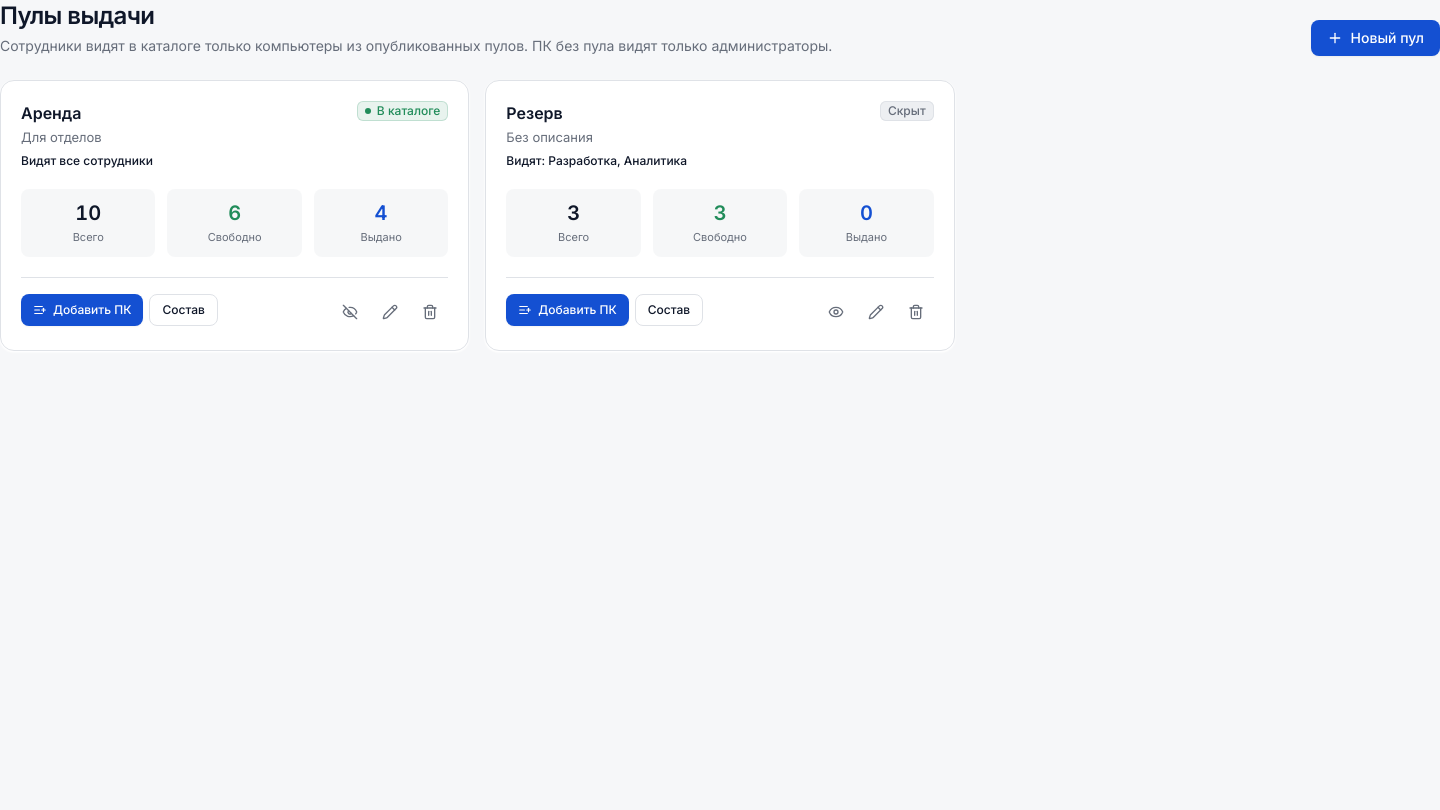
it: PoolsPage › создание и редактирование › кнопка «Сохранить» активна только при названии от 2 символов
Check: the text "Аренда" is shown, box [21,103,81,123]
Step 1. Click the button "Новый пул" → (1375, 38), box [1311,20,1439,56]
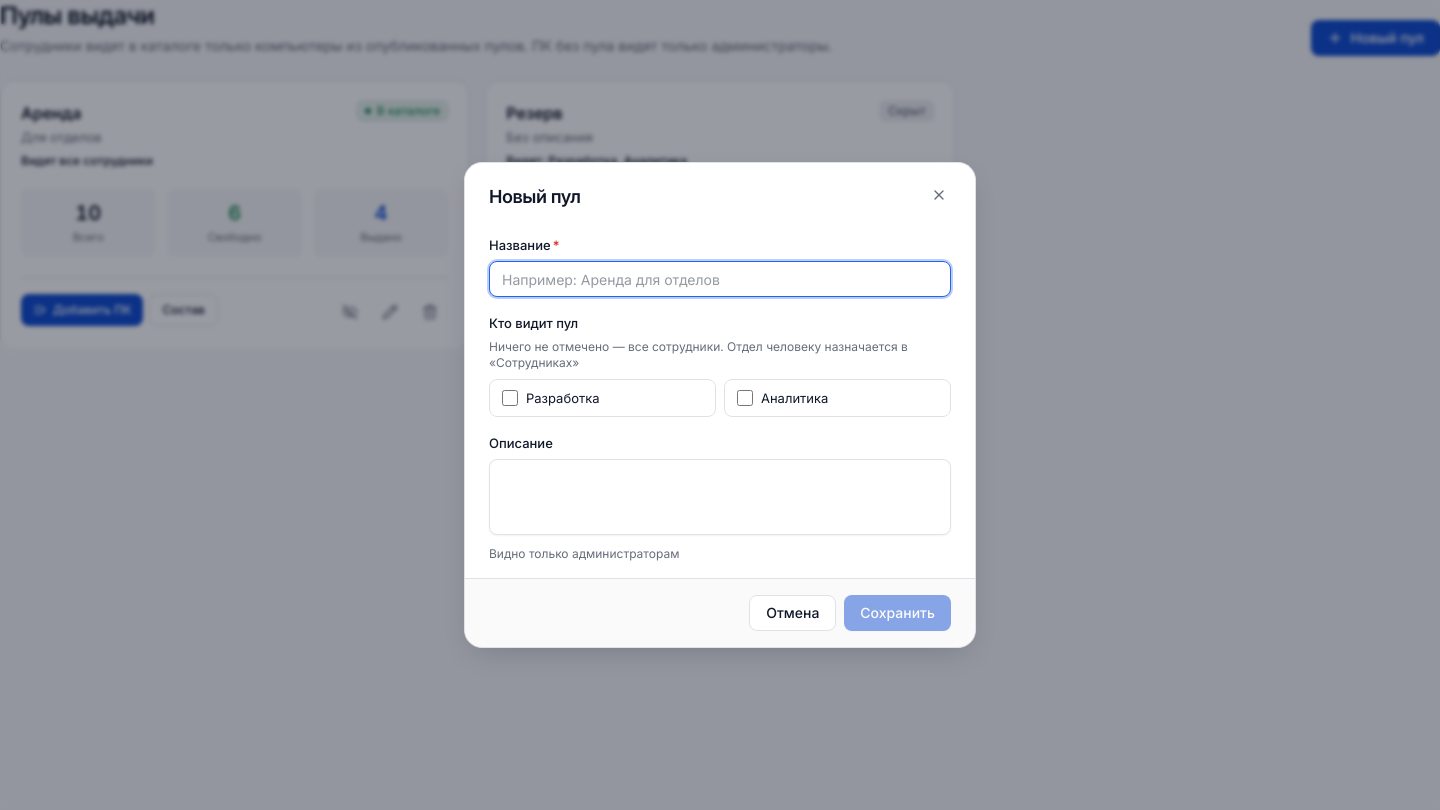
Check: the button "Сохранить" is disabled, box [844,595,951,631]
Step 2. Type " a " into the field labelled "Название*" → (720, 279), box [489,261,951,297]
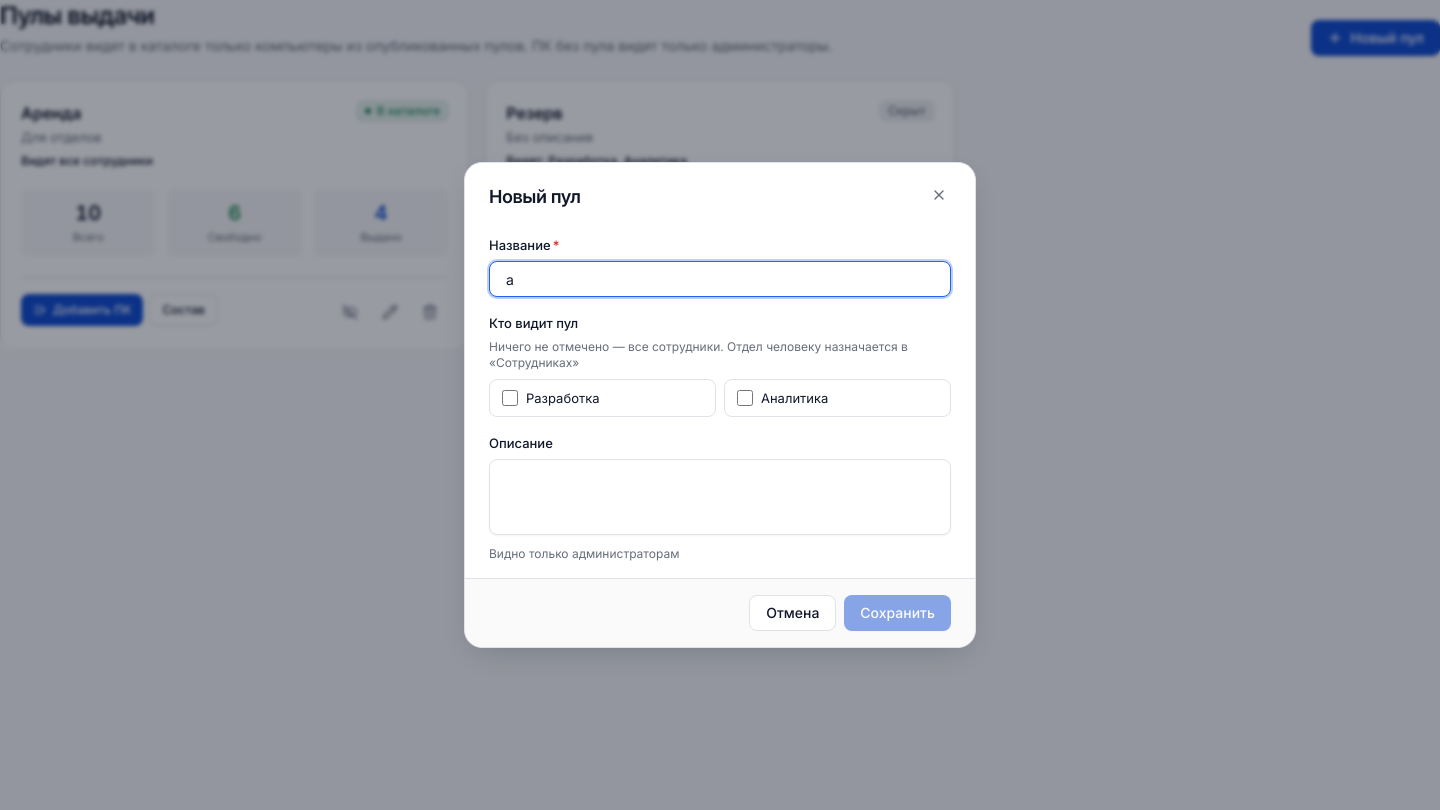
Check: the button "Сохранить" is disabled, box [844,595,951,631]
Step 3. Type "b" into the field labelled "Название*" → (720, 279), box [489,261,951,297]
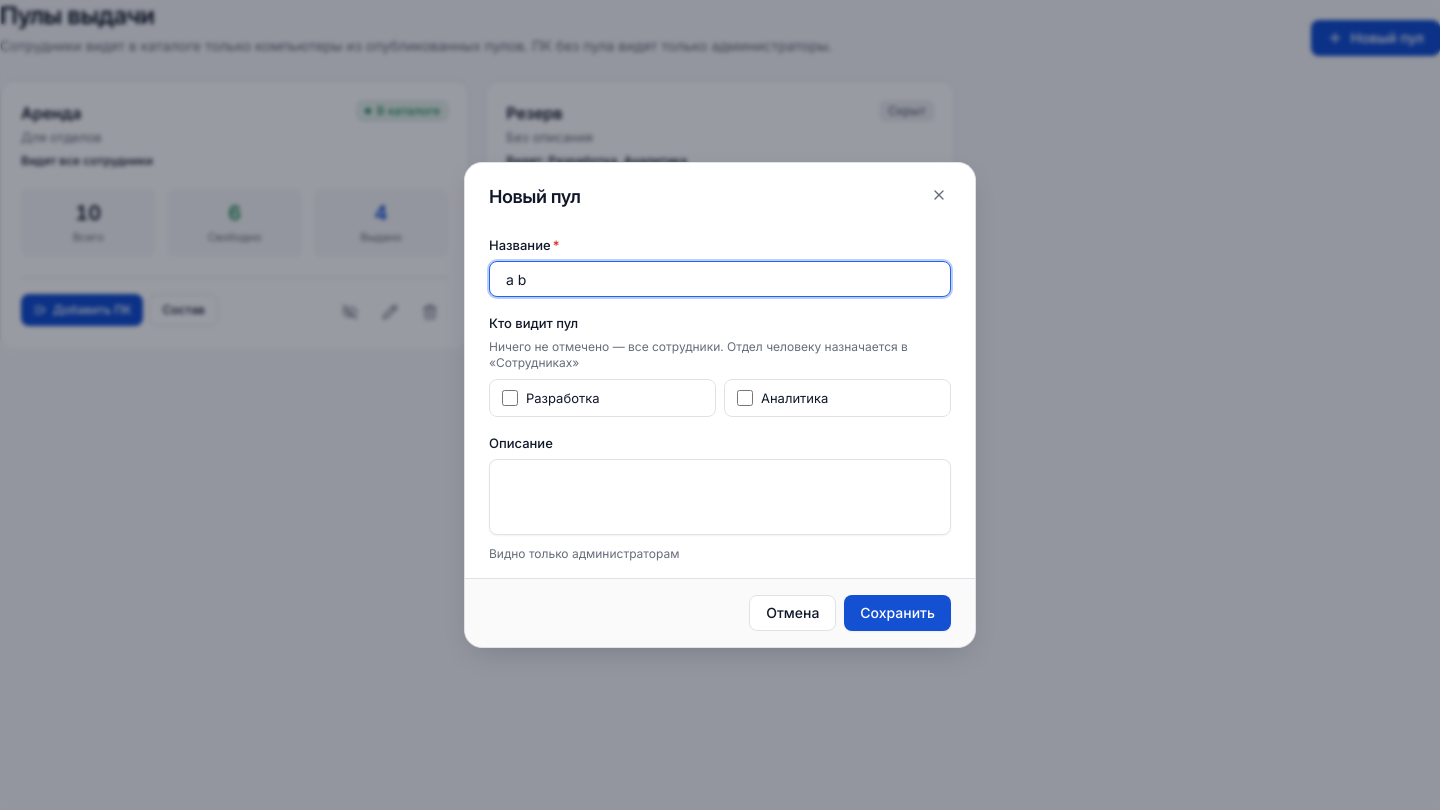
Check: the button "Сохранить" is enabled, box [844,595,951,631]
